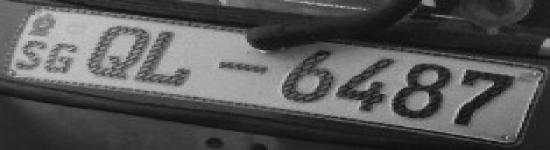-: (219, 60, 273, 76)
4: (332, 52, 394, 117)
6: (278, 48, 338, 102)
7: (454, 68, 516, 132)
8: (391, 61, 450, 123)
G: (43, 40, 81, 77)
L: (134, 30, 198, 88)
Q: (88, 24, 150, 79)
S: (13, 39, 46, 70)
